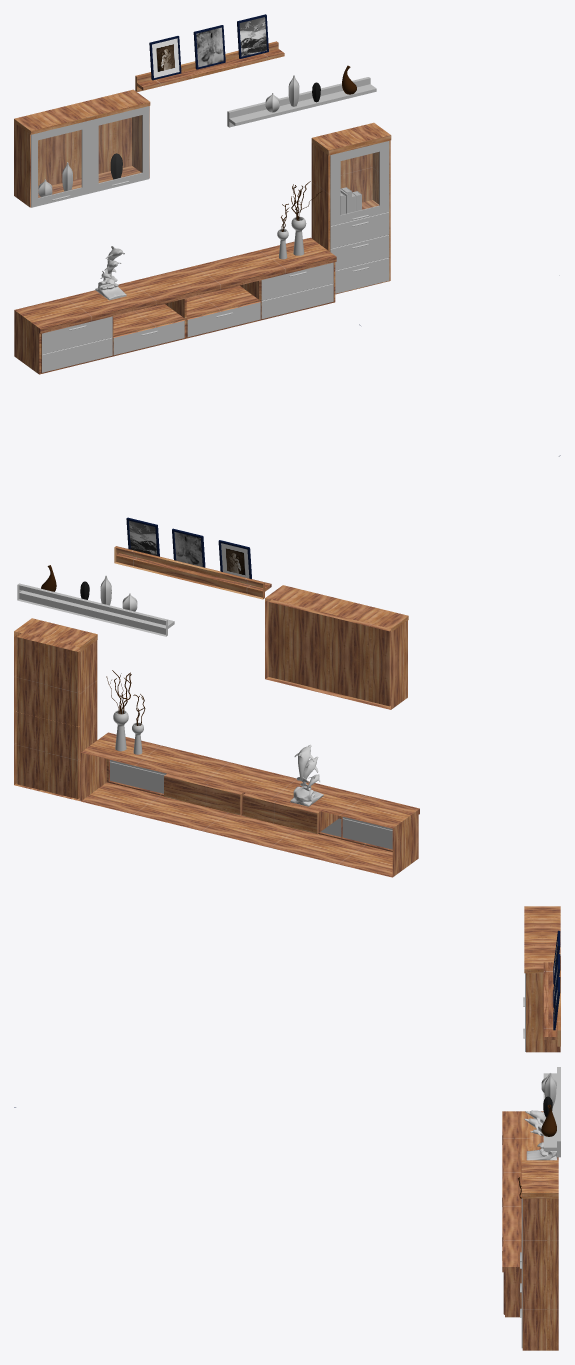
File: cabinet-livingroom.FBX
3 renders of one model, top to bottom at view 1: azimuth 30°, elevation 25°; view 2: azimuth 150°, elevation 25°; view 3: azimuth 270°, elevation 25°, orthographic. The views are drawn at different scales.
Parts seen in each view (by area): view 1: zhongdian006, zhongdian007, YINCANG006, putong015, putong021, putong016, putong017, putong007; view 2: zhongdian006, zhongdian007, putong015, putong021, putong016, putong017; view 3: zhongdian006, zhongdian007, putong021, putong016.
Boxes of the visible parts, bbox=[...] form: zhongdian006: bbox=[14, 41, 391, 374]; zhongdian007: bbox=[31, 77, 389, 372]; YINCANG006: bbox=[38, 115, 378, 214]; putong015: bbox=[152, 17, 266, 77]; putong021: bbox=[38, 75, 306, 300]; putong016: bbox=[149, 14, 360, 325]; putong017: bbox=[281, 65, 356, 231]; putong007: bbox=[340, 187, 361, 214]; zhongdian006: bbox=[14, 546, 419, 877]; zhongdian007: bbox=[17, 583, 392, 849]; putong015: bbox=[129, 520, 249, 578]; putong021: bbox=[100, 575, 323, 806]; putong016: bbox=[126, 455, 560, 578]; putong017: bbox=[41, 565, 145, 725]; zhongdian006: bbox=[502, 906, 560, 1350]; zhongdian007: bbox=[521, 973, 560, 1348]; putong021: bbox=[524, 1073, 557, 1160]; putong016: bbox=[14, 930, 560, 1107].
Size of the model in its own units: 317 by 236 by 387.
